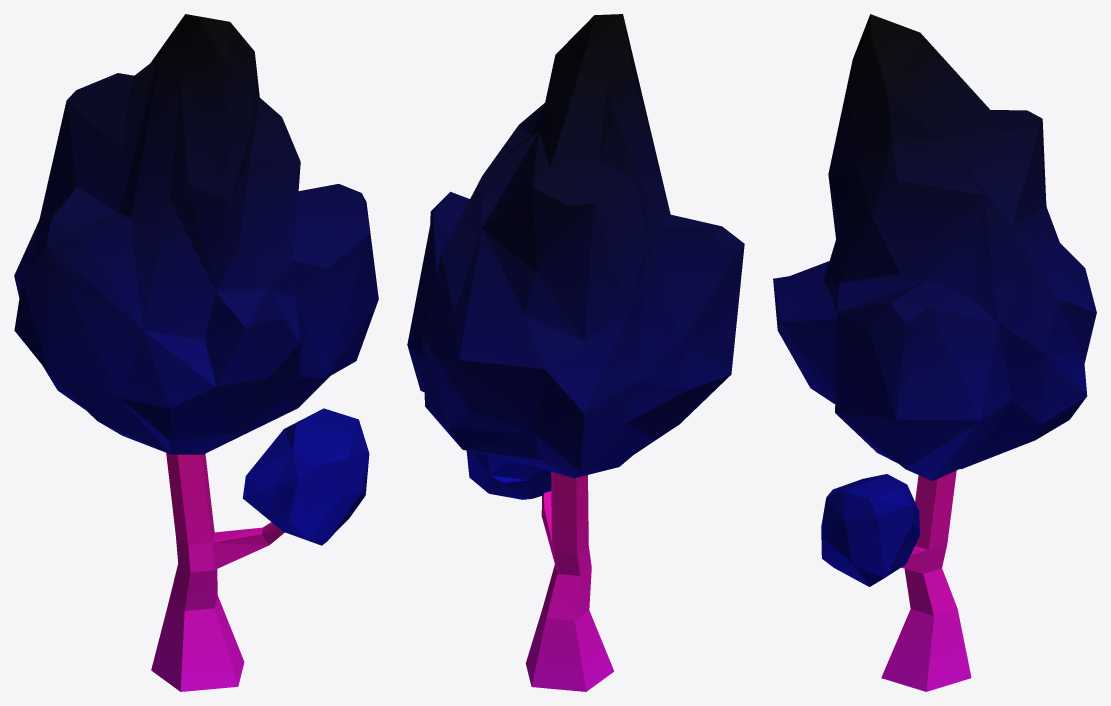
File: synty-tree-03.gltf
The picture shows the model from 3 angles, left to right: view 1: azimuth 30°, elevation 25°; view 2: azimuth 150°, elevation 25°; view 3: azimuth 270°, elevation 25°; orthographic projection. The views are drawn at different scales.
Visible parts, largest first — view 1: SM_Tree_03; view 2: SM_Tree_03; view 3: SM_Tree_03.
Part boxes in pixels (box(x1,y1,x2,y2)): SM_Tree_03: box(14, 14, 378, 691); SM_Tree_03: box(407, 14, 744, 691); SM_Tree_03: box(773, 14, 1096, 691).
Size of the model in its own units: 3.18 by 6.21 by 2.83.
